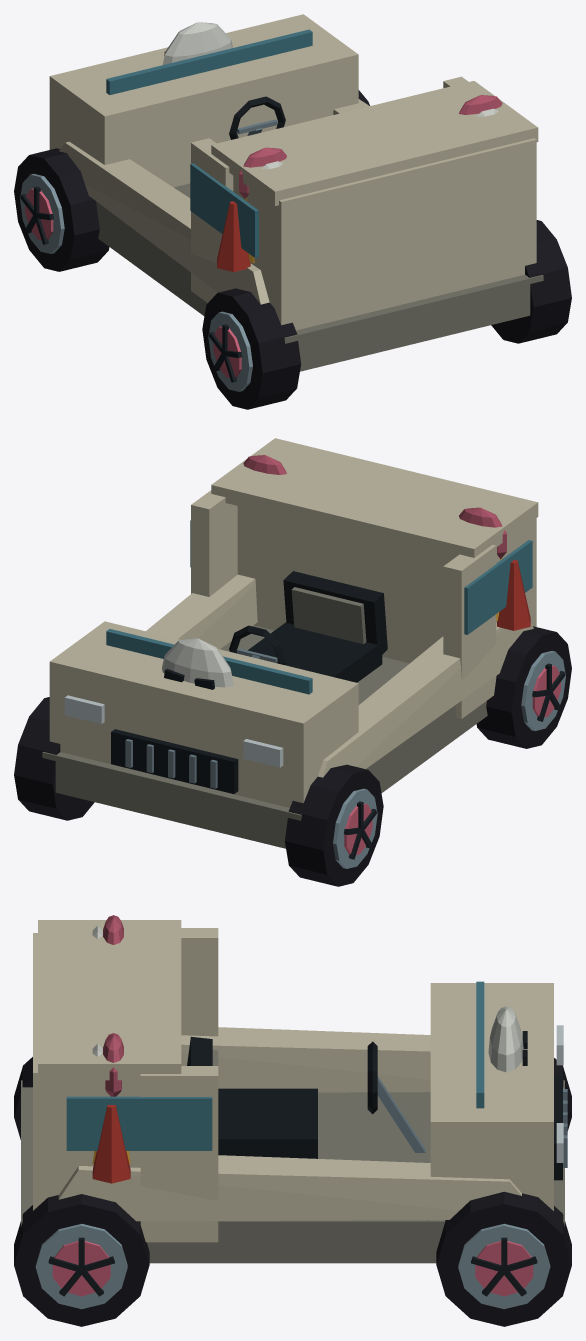
Rendered from kart.glb.
3 renders of one model, top to bottom at view 1: azimuth 30°, elevation 25°; view 2: azimuth 150°, elevation 25°; view 3: azimuth 270°, elevation 25°, orthographic. The views are drawn at different scales.
Parts seen in each view (by area): view 1: identity-van-van-utility-body, wheel-rear-left, wheel-front-left, wheel-rear-right, identity-van-motif-mask, identity-van-motif-sweets, identity-van-motif-fire, identity-van-driver-cockpit; view 2: identity-van-van-utility-body, identity-van-driver-cockpit, wheel-front-left, wheel-rear-left, wheel-front-right, identity-van-motif-mask, identity-van-motif-fire, identity-van-motif-sweets; view 3: identity-van-van-utility-body, wheel-front-right, wheel-rear-right, identity-van-driver-cockpit, identity-van-motif-fire, identity-van-motif-mask, identity-van-motif-sweets, wheel-rear-left.
Boxes of the visible parts, x1=… form: identity-van-van-utility-body: x1=49, y1=14, x2=543, y2=371; wheel-rear-left: x1=202, y1=288, x2=300, y2=409; wheel-front-left: x1=14, y1=148, x2=109, y2=271; wheel-rear-right: x1=491, y1=220, x2=571, y2=343; identity-van-motif-mask: x1=162, y1=22, x2=232, y2=64; identity-van-motif-sweets: x1=239, y1=95, x2=502, y2=198; identity-van-motif-fire: x1=217, y1=197, x2=254, y2=271; identity-van-driver-cockpit: x1=229, y1=96, x2=285, y2=139; identity-van-van-utility-body: x1=42, y1=438, x2=538, y2=848; identity-van-driver-cockpit: x1=229, y1=571, x2=387, y2=682; wheel-front-left: x1=285, y1=764, x2=383, y2=886; wheel-rear-left: x1=476, y1=626, x2=571, y2=748; wheel-front-right: x1=14, y1=697, x2=94, y2=820; identity-van-motif-mask: x1=162, y1=638, x2=233, y2=689; identity-van-motif-fire: x1=496, y1=558, x2=530, y2=630; identity-van-motif-sweets: x1=243, y1=455, x2=506, y2=559; identity-van-van-utility-body: x1=21, y1=920, x2=567, y2=1263; wheel-front-right: x1=436, y1=1191, x2=571, y2=1326; wheel-rear-right: x1=14, y1=1194, x2=149, y2=1326; identity-van-driver-cockpit: x1=187, y1=1036, x2=425, y2=1158; identity-van-motif-fire: x1=92, y1=1105, x2=130, y2=1183; identity-van-motif-mask: x1=488, y1=1006, x2=527, y2=1072; identity-van-motif-sweets: x1=92, y1=915, x2=123, y2=1096; wheel-rear-left: x1=14, y1=1057, x2=32, y2=1139.
Size of the model in its own units: 2.13 by 1.47 by 2.8.
